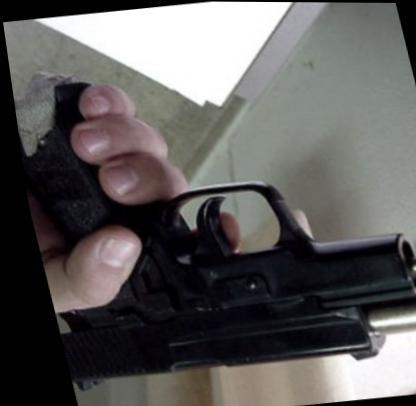pistol: (5, 48, 415, 390)
